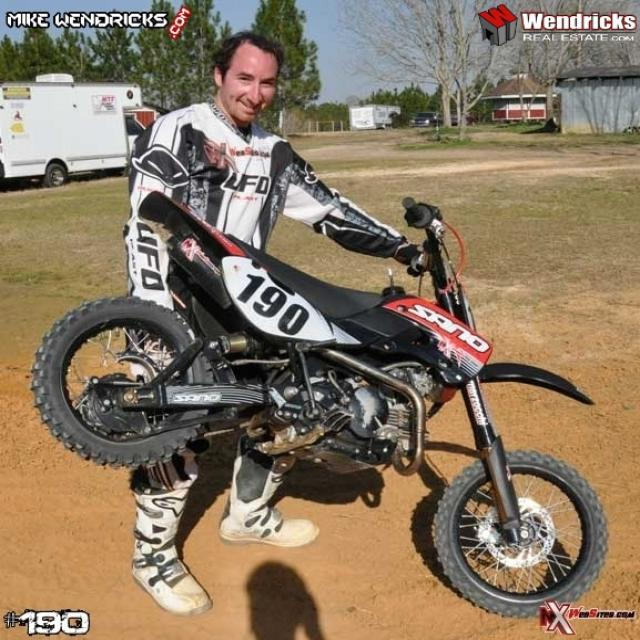Wheeling: (144, 61, 588, 570)
